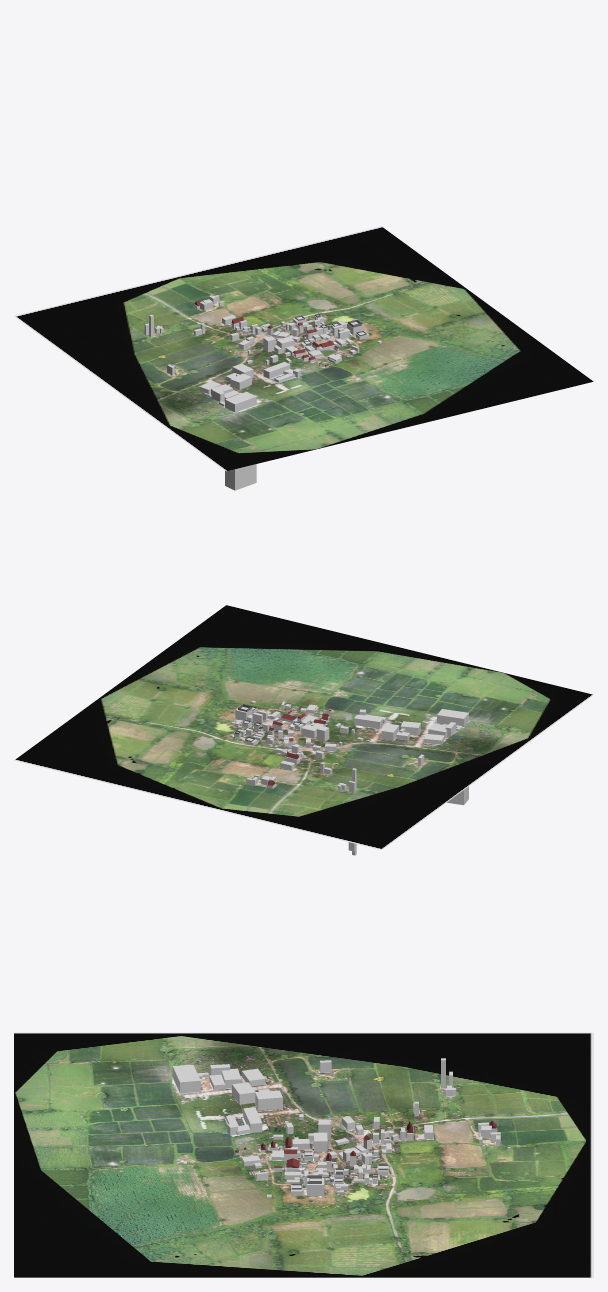
The model's file is guj2.glb.
3 renders of one model, top to bottom at view 1: azimuth 30°, elevation 25°; view 2: azimuth 150°, elevation 25°; view 3: azimuth 270°, elevation 25°, orthographic. The views are drawn at different scales.
Parts seen in each view (by area): view 1: Plane, Cube.048; view 2: Plane, Cube.048; view 3: Plane, Cube.048.
Part boxes in pixels (bbox=[...]): Plane: bbox=[14, 226, 593, 471]; Cube.048: bbox=[225, 391, 256, 490]; Plane: bbox=[14, 605, 593, 849]; Cube.048: bbox=[437, 709, 468, 805]; Plane: bbox=[14, 1032, 593, 1277]; Cube.048: bbox=[172, 1064, 200, 1093].
Bounding box in the file's own units: 17.72 × 14.91 × 17.72.
12 materials, 2 textured.
